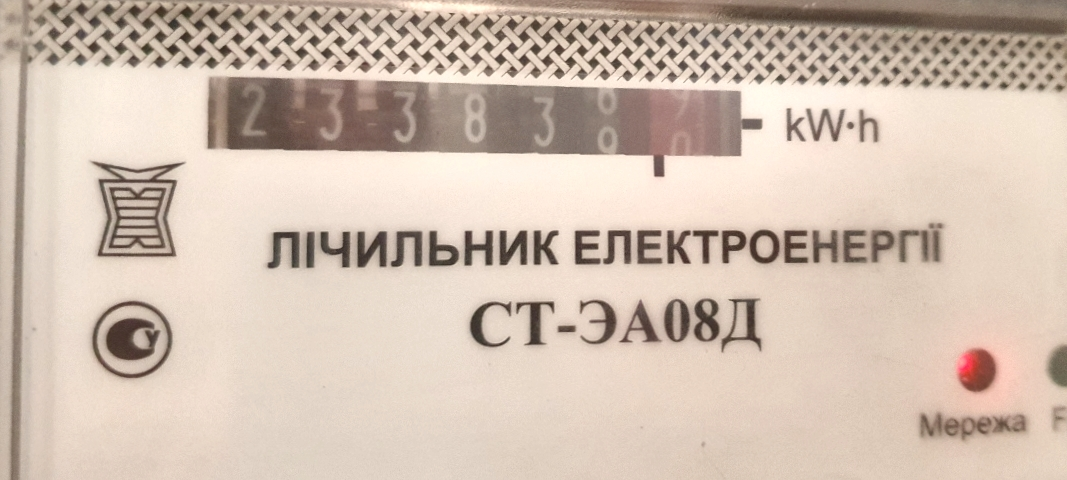0: (666, 127, 693, 162)
2: (233, 79, 273, 140)
3: (384, 84, 421, 148), (529, 91, 558, 148), (316, 84, 344, 142)
8: (457, 87, 491, 146), (594, 83, 620, 116)
9: (664, 84, 695, 123), (593, 122, 622, 158)
screen: (176, 44, 772, 211)
